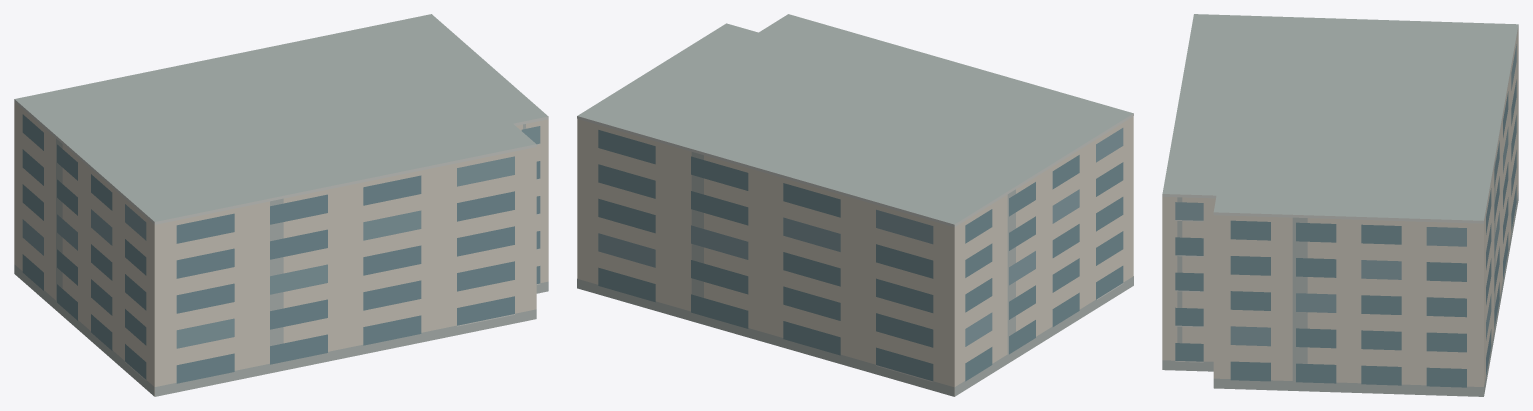
The model's file is residential-92f4fca9-c3d0-4227-b417-daedaa9a93b2.glb.
3 renders of one model, left to right at view 1: azimuth 30°, elevation 25°; view 2: azimuth 150°, elevation 25°; view 3: azimuth 270°, elevation 25°, orthographic. The views are drawn at different scales.
Visible parts, largest first — view 1: residential-92f4fca9-c3d0-4227-b417-daedaa9a93b2.tmp; view 2: residential-92f4fca9-c3d0-4227-b417-daedaa9a93b2.tmp; view 3: residential-92f4fca9-c3d0-4227-b417-daedaa9a93b2.tmp.
Part boxes in pixels (box(x1,y1,x2,y2)): residential-92f4fca9-c3d0-4227-b417-daedaa9a93b2.tmp: box(14, 14, 548, 396); residential-92f4fca9-c3d0-4227-b417-daedaa9a93b2.tmp: box(577, 14, 1133, 396); residential-92f4fca9-c3d0-4227-b417-daedaa9a93b2.tmp: box(1162, 14, 1518, 396).
Bounding box in the file's own units: 38.41 × 15.25 × 27.95.
